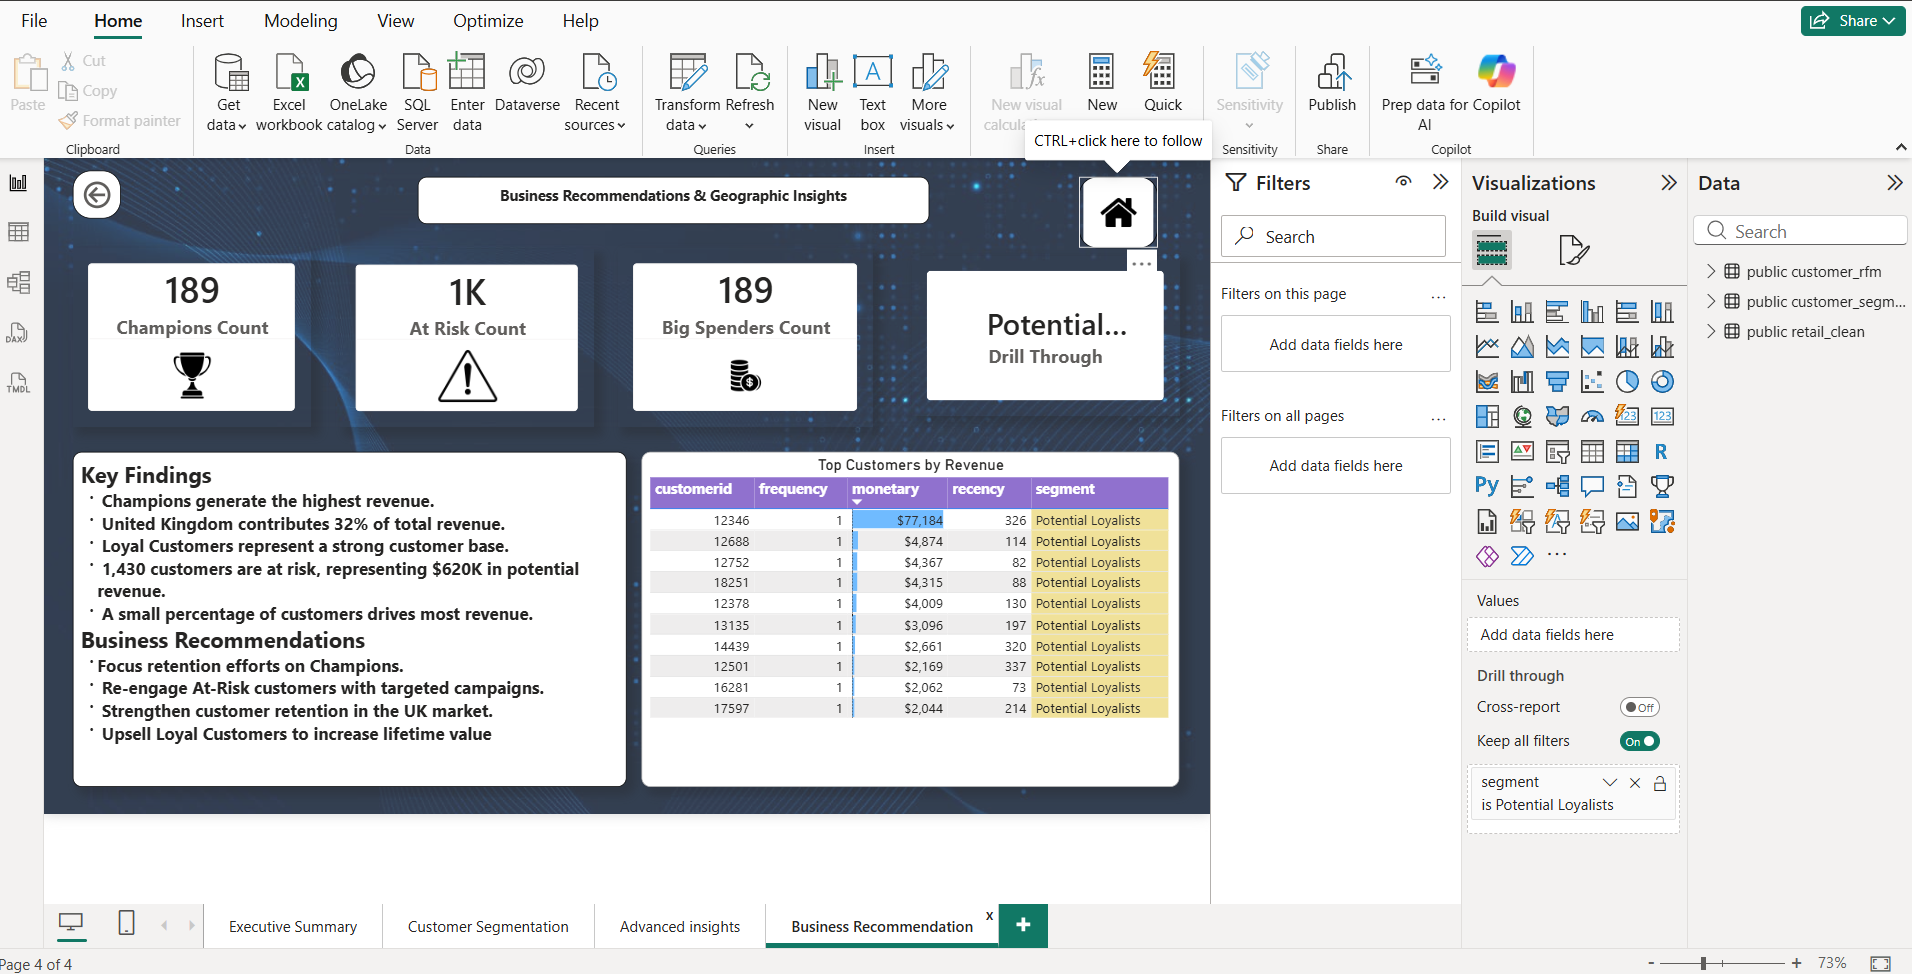

The page's visual inventory and layout, read from the dashboard file:
{"tool":"powerbi","page":{"name":"Business Recommendation","canvas":[1280,720],"ordinal":3},"visuals":[{"type":"cardVisual","fields":{"Data":["public customer_rfm.Champions Count"]},"box":[184.6,423.5,361.9,167.7],"z":0},{"type":"textbox","box":[31.4,322.1,608,368],"z":1000},{"type":"textbox","box":[410,20,561.7,51.7],"z":2000},{"type":"tableEx","title":"Top Customers by Revenue","fields":{"Values":["public customer_segments.customerid","public customer_segments.frequency","public customer_segments.monetary","public customer_segments.recency","public customer_segments.segment"]},"box":[655.9,322.5,590.1,367.8],"z":3000},{"type":"actionButton","box":[31.2,14.4,53.1,53.1],"z":4000},{"type":"cardVisual","fields":{"Data":["Min(public customer_segments.segment)"]},"box":[951.9,107.4,294.4,176.1],"z":5000},{"type":"image","box":[1136.2,20,86.2,78.8],"z":6000},{"type":"cardVisual","fields":{"Data":["public customer_rfm.Champions Count"]},"box":[31.2,98.8,261.2,196.2],"z":7000},{"type":"cardVisual","fields":{"Data":["public customer_rfm.At Risk Count"]},"box":[325,100,278.8,195],"z":8000},{"type":"cardVisual","fields":{"Data":["public customer_rfm.Big Spenders Count"]},"box":[630,98.8,280,196.2],"z":9000}]}

Visuals, with their boxes on the page's 1280x720 design canvas (x1, y1, x2, y2). These are canvas units, not pixel positions in the 1912x974 screenshot, which may show the page scaled, cropped or inside an application window:
cardVisual - public customer_rfm.Champions Count: box(185, 424, 546, 591)
textbox: box(31, 322, 639, 690)
textbox: box(410, 20, 972, 72)
"Top Customers by Revenue" tableEx: box(656, 322, 1246, 690)
actionButton: box(31, 14, 84, 68)
cardVisual - Min(public customer_segments.segment): box(952, 107, 1246, 284)
image: box(1136, 20, 1222, 99)
cardVisual - public customer_rfm.Champions Count: box(31, 99, 292, 295)
cardVisual - public customer_rfm.At Risk Count: box(325, 100, 604, 295)
cardVisual - public customer_rfm.Big Spenders Count: box(630, 99, 910, 295)
